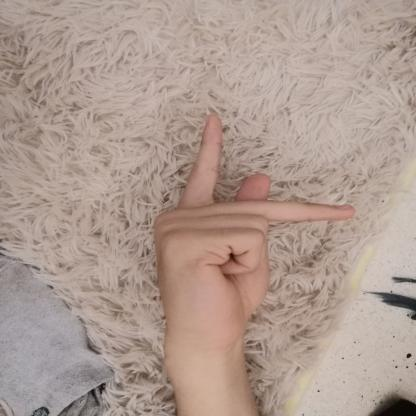DHAA: (137, 104, 366, 356)
